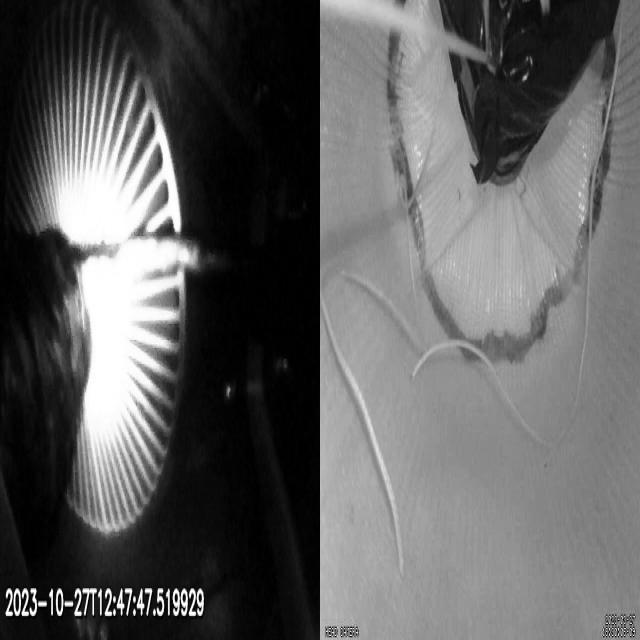red-circle: (385, 2, 618, 364)
